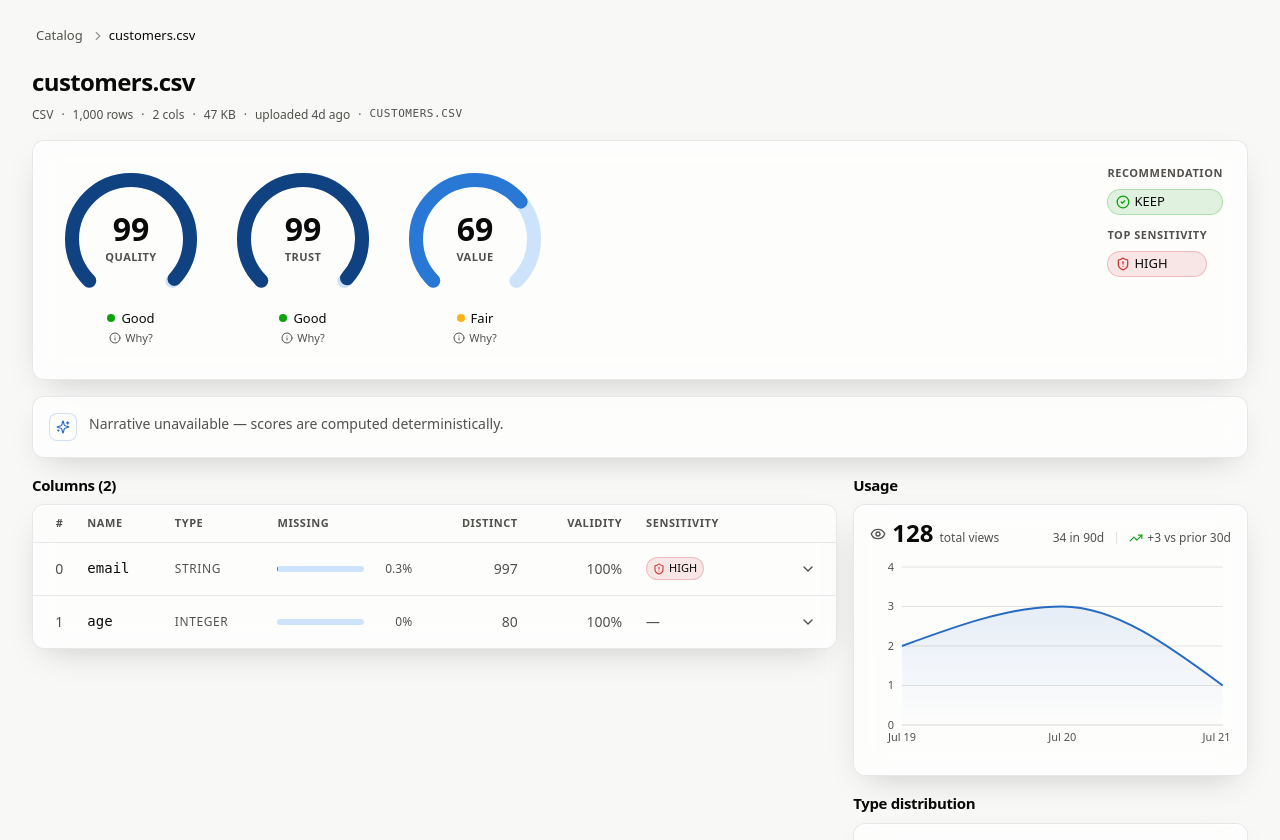
Test: DatasetDetailPage — explain this score › opens the breakdown popover with the scoreBreakdown sub-scores
Expected: the heading "customers.csv" is shown, [32, 64, 195, 98]
Expected: the text "Completeness" is not shown
Note: Click the Quality gauge (a button that opens its breakdown dialog).
Click the button "99 Quality Good Why?" at {"x": 131, "y": 260}, box [57, 164, 205, 354]
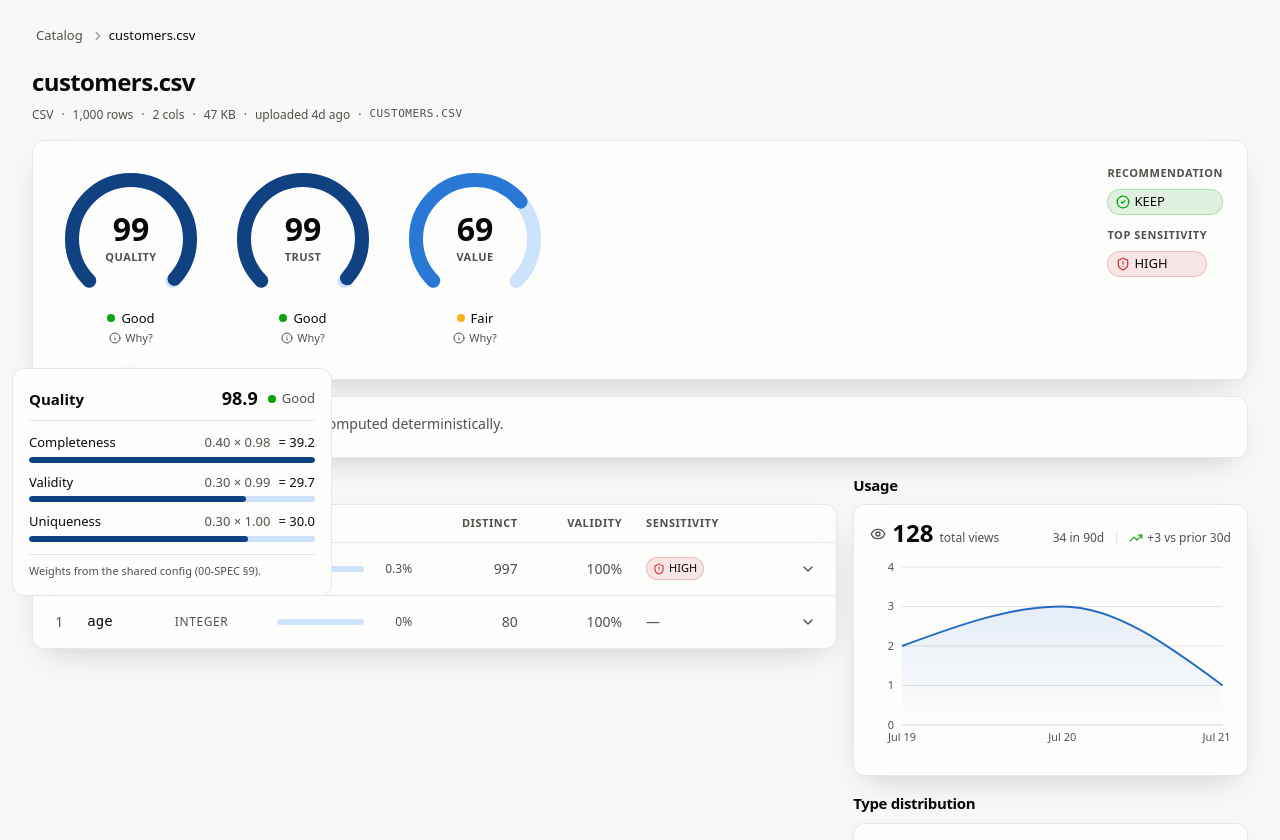
Expected: the text "Completeness" is shown, [29, 433, 116, 452]
Expected: the text "Validity" is shown, [29, 472, 73, 492]
Expected: the text "Uniqueness" is shown, [29, 512, 101, 532]
